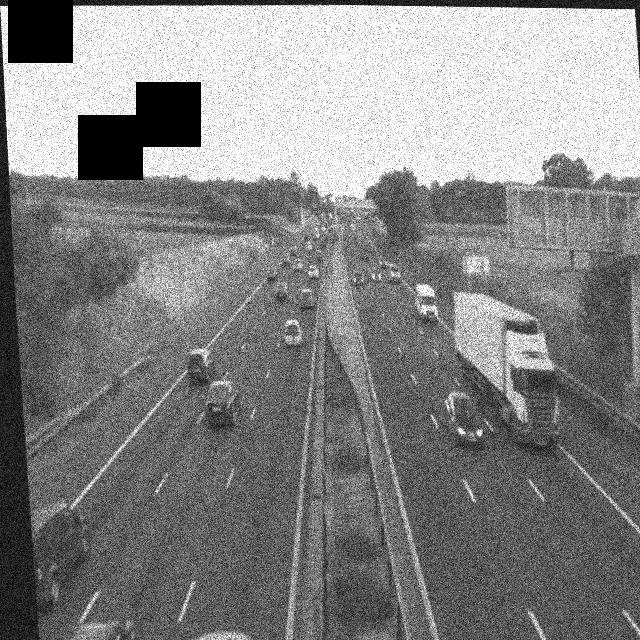car: (29, 502, 94, 607), (443, 390, 485, 448), (52, 617, 136, 640), (203, 379, 242, 426), (185, 348, 217, 384), (184, 629, 252, 640), (283, 318, 302, 346), (299, 287, 314, 309), (272, 281, 287, 301), (388, 263, 401, 282), (351, 268, 364, 284), (368, 265, 381, 281), (307, 265, 319, 279), (265, 267, 277, 281), (292, 256, 302, 270), (313, 249, 322, 262), (280, 250, 289, 263), (377, 253, 385, 265)
truck: (451, 289, 564, 449)
